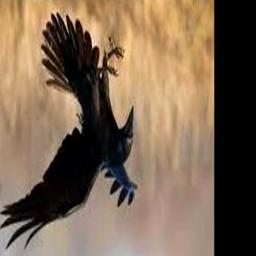Crow: (0, 13, 137, 253)
